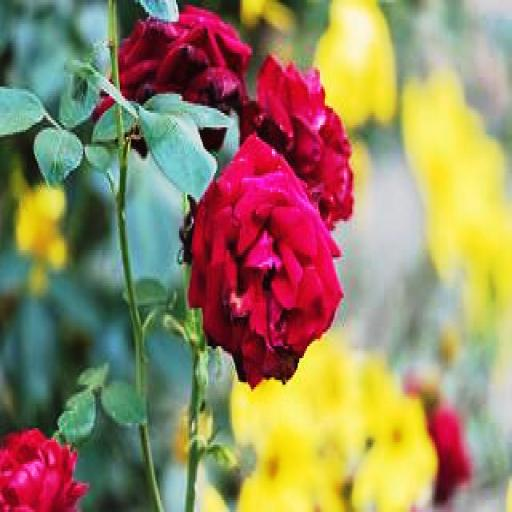rose: (178, 163, 344, 379)
tulip: (2, 416, 85, 512)
